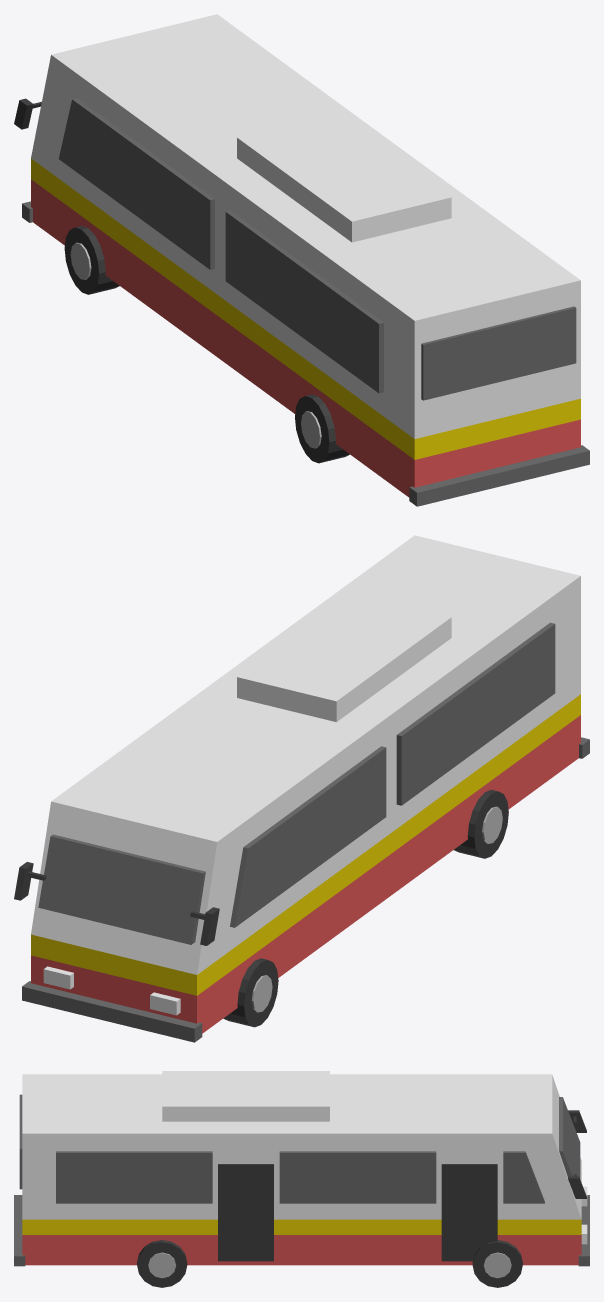
Rendered from VietnameseBus.glb.
3 renders of one model, top to bottom at view 1: azimuth 30°, elevation 25°; view 2: azimuth 150°, elevation 25°; view 3: azimuth 270°, elevation 25°, orthographic. The views are drawn at different scales.
Visible parts, largest first — view 1: BusBody, Wheel_FL, Wheel_RL; view 2: BusBody, Wheel_FL, Wheel_RL; view 3: BusBody, Wheel_RR, Wheel_FR.
Part boxes in pixels (box(x1,y1,x2,y2)): BusBody: box(14, 14, 589, 506); Wheel_FL: box(64, 226, 119, 294); Wheel_RL: box(295, 394, 349, 463); BusBody: box(14, 535, 589, 1042); Wheel_FL: box(223, 958, 278, 1027); Wheel_RL: box(454, 789, 508, 858); BusBody: box(14, 1071, 589, 1266); Wheel_RR: box(137, 1240, 187, 1287); Wheel_FR: box(472, 1240, 522, 1287).
Size of the model in its own units: 2.9 by 3.3 by 10.3.
